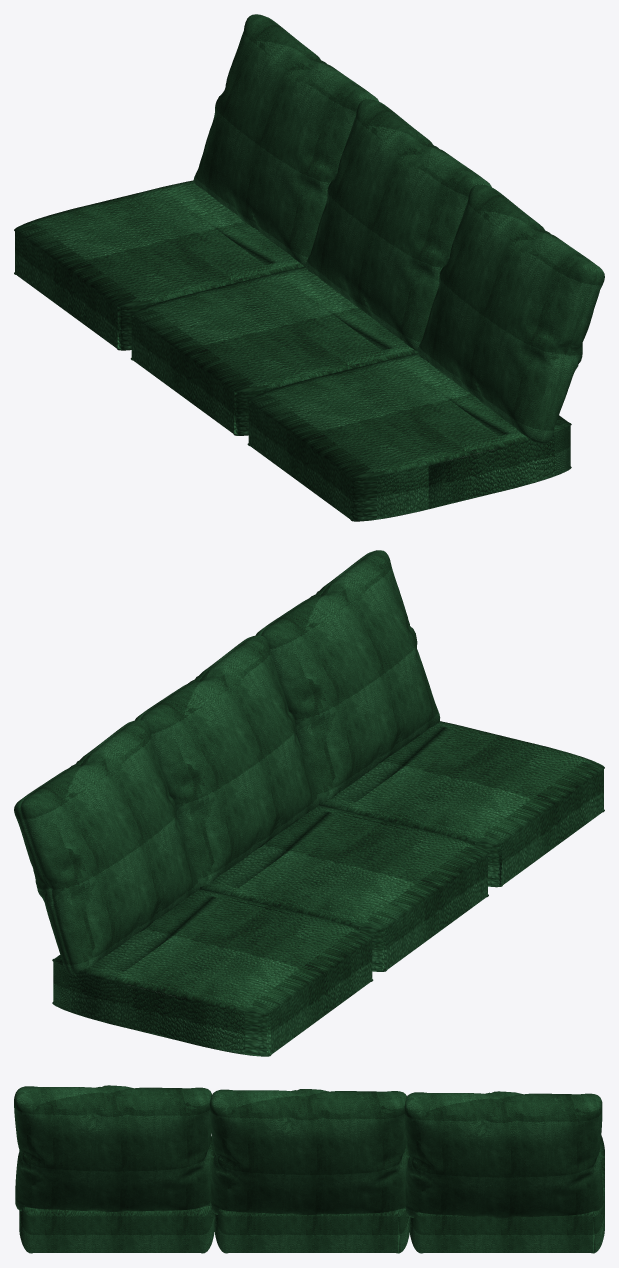
The model's file is Sofa.glb.
3 views of the same model, one above another, from view 1: azimuth 30°, elevation 25°; view 2: azimuth 150°, elevation 25°; view 3: azimuth 270°, elevation 25° (orthographic). The views are drawn at different scales.
Visible parts, largest first — view 1: SofaCompleto; view 2: SofaCompleto; view 3: SofaCompleto.
Part boxes in pixels (x1,y1,x2,y2): SofaCompleto: (14, 14, 604, 521); SofaCompleto: (14, 550, 604, 1056); SofaCompleto: (14, 1085, 604, 1253).
Size of the model in its own units: 11.61 by 8.69 by 26.92.
Materials: 4 (4 with a texture image).
